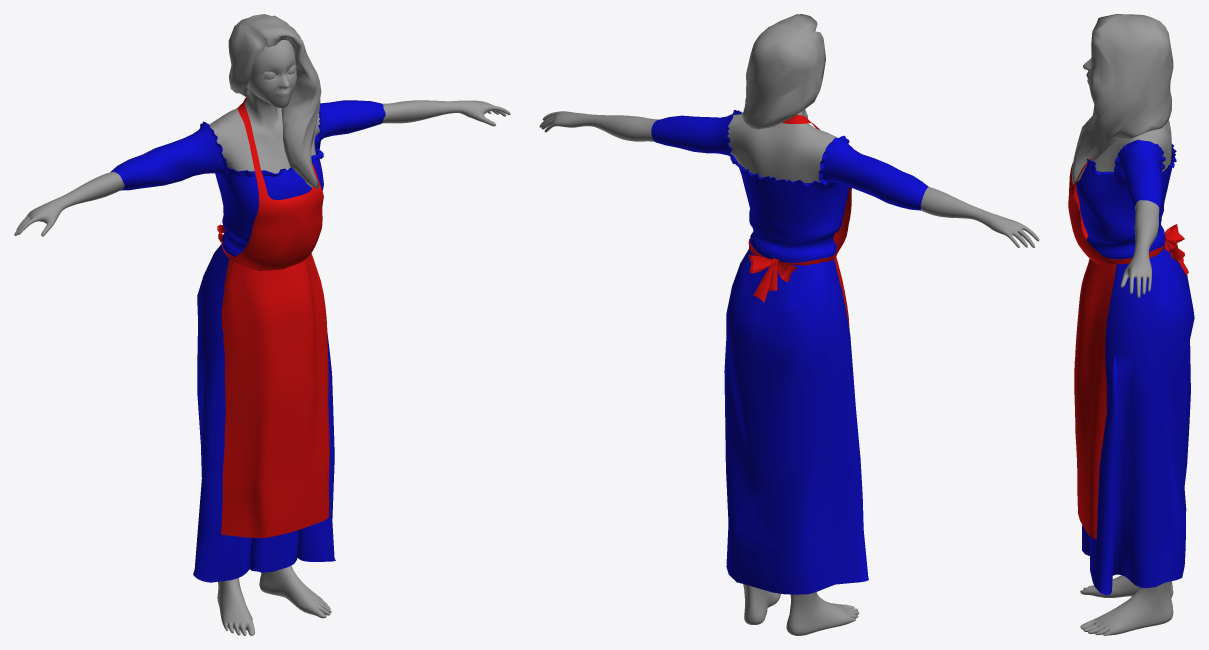
File: Tavernchick_low.FBX
3 views of the same model, side by side, from view 1: azimuth 30°, elevation 25°; view 2: azimuth 150°, elevation 25°; view 3: azimuth 270°, elevation 25° (orthographic).
Visible parts, largest first — view 1: zastera_low, saty_low, body_low; view 2: saty_low, body_low, zastera_low; view 3: saty_low, body_low, zastera_low.
Part boxes in pixels (left/top/right/bottom): zastera_low: left=217, top=97, right=329, bottom=538; saty_low: left=111, top=100, right=385, bottom=582; body_low: left=14, top=14, right=510, bottom=635; saty_low: left=651, top=110, right=928, bottom=594; body_low: left=539, top=14, right=1039, bottom=635; zastera_low: left=748, top=115, right=851, bottom=329; saty_low: left=1076, top=139, right=1194, bottom=595; body_low: left=1071, top=14, right=1173, bottom=635; zastera_low: left=1068, top=156, right=1188, bottom=538.
Bounding box in the file's own units: 158 × 181 × 34.82.
